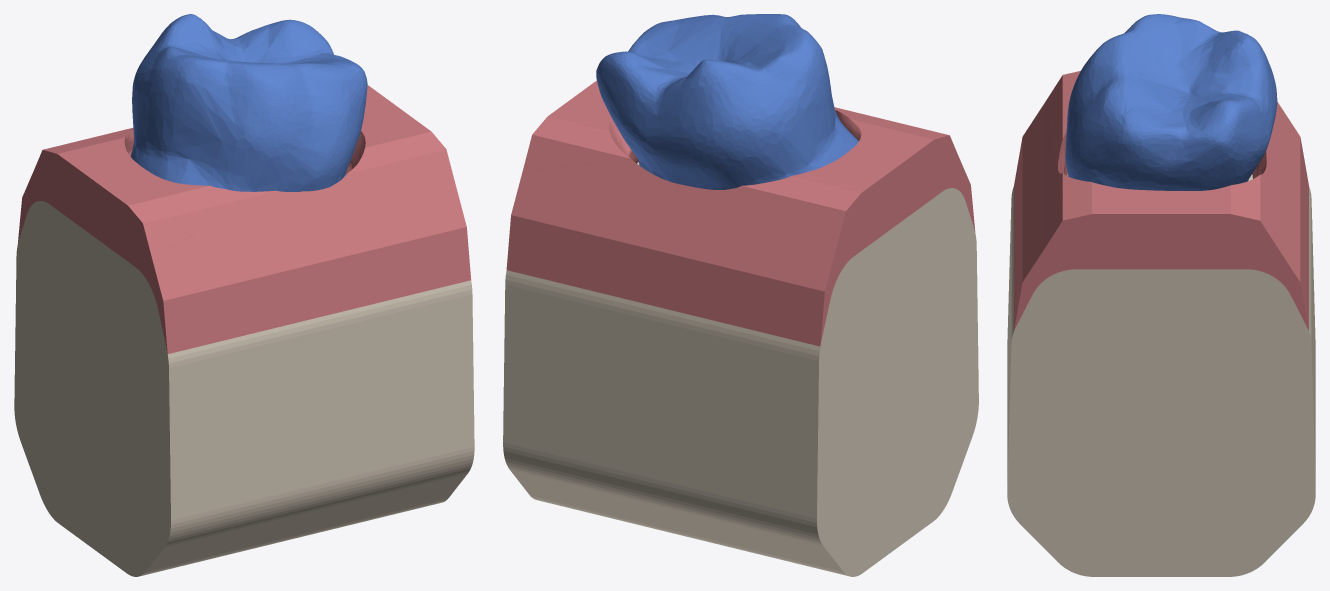
Rendered from healthy.glb.
3 views of the same model, side by side, from view 1: azimuth 30°, elevation 25°; view 2: azimuth 150°, elevation 25°; view 3: azimuth 270°, elevation 25° (orthographic). The views are drawn at different scales.
Visible parts, largest first — view 1: bone, gum, teeth; view 2: bone, gum, teeth; view 3: bone, gum, teeth.
Boxes of the visible parts, x1,y1,x2,y2 form: bone: [14, 201, 474, 576]; gum: [18, 85, 471, 353]; teeth: [130, 14, 367, 191]; bone: [503, 162, 978, 576]; gum: [506, 80, 975, 346]; teeth: [596, 14, 858, 189]; bone: [1007, 173, 1315, 576]; gum: [1014, 71, 1308, 330]; teeth: [1065, 14, 1277, 190].
Bounding box in the file's own units: 0.0142 × 0.0209 × 0.0127.
